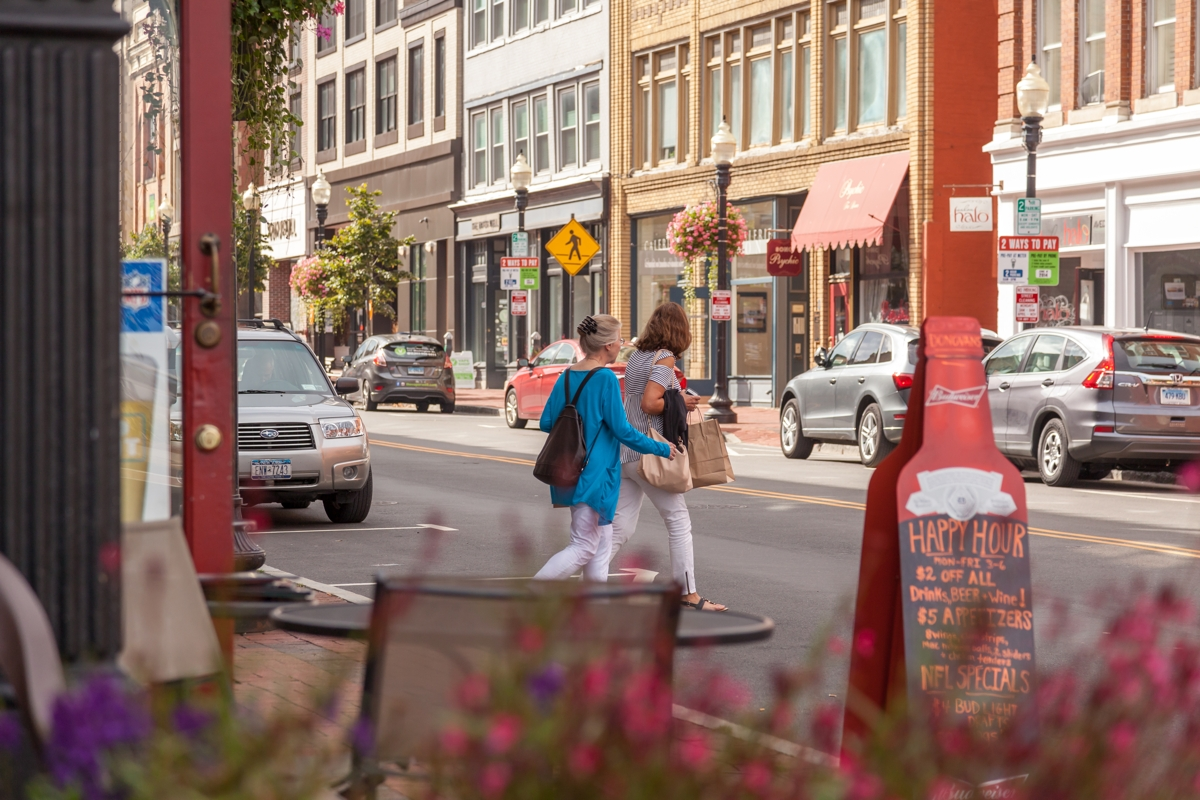car: (189, 314, 400, 519), (983, 315, 1196, 484), (774, 314, 987, 461), (332, 320, 473, 422)
person: (528, 302, 672, 592), (615, 295, 741, 614)
